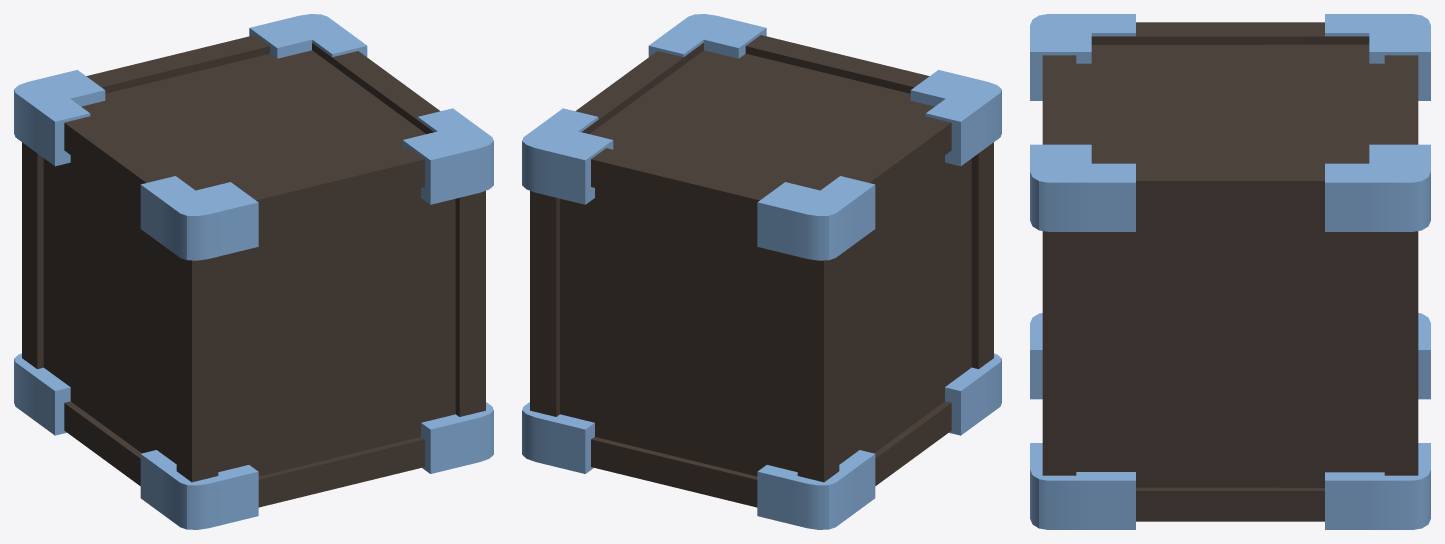
Rendered from woodenbox_broken.fbx.
3 renders of one model, left to right at view 1: azimuth 30°, elevation 25°; view 2: azimuth 150°, elevation 25°; view 3: azimuth 270°, elevation 25°, orthographic. The views are drawn at different scales.
Parts seen in each view (by area): view 1: BrokenBox.008, BrokenBox.004, BrokenBox.001, BrokenBox.009, BrokenBox.005, BrokenBox.017, BrokenBox.019, BrokenBox.002, BrokenBox.011, BrokenBox.010, BrokenBox.014, BrokenBox.007 (+4 smaller); view 2: BrokenBox.005, BrokenBox.001, BrokenBox.007, BrokenBox.008, BrokenBox.006, BrokenBox.019, BrokenBox.002, BrokenBox.015, BrokenBox.003, BrokenBox.011, BrokenBox, BrokenBox.004 (+1 smaller); view 3: BrokenBox.005, BrokenBox.013, BrokenBox.008, BrokenBox.003, BrokenBox.012, BrokenBox.016, BrokenBox.014, BrokenBox.015, BrokenBox.001, BrokenBox.004, BrokenBox.002, BrokenBox.006 (+2 smaller).
Part boxes in pixels (<box>): BrokenBox.008: <box>107,129,379,336</box>; BrokenBox.004: <box>315,108,493,336</box>; BrokenBox.001: <box>14,56,218,280</box>; BrokenBox.009: <box>140,346,278,529</box>; BrokenBox.005: <box>169,14,400,125</box>; BrokenBox.017: <box>335,365,485,487</box>; BrokenBox.019: <box>107,306,194,485</box>; BrokenBox.002: <box>64,100,253,305</box>; BrokenBox.011: <box>113,243,313,369</box>; BrokenBox.010: <box>265,331,338,505</box>; BrokenBox.014: <box>335,298,485,394</box>; BrokenBox.007: <box>14,246,78,435</box>; BrokenBox.005: <box>522,82,761,331</box>; BrokenBox.001: <box>677,151,875,369</box>; BrokenBox.007: <box>677,331,875,529</box>; BrokenBox.008: <box>738,46,1001,242</box>; BrokenBox.006: <box>522,365,680,487</box>; BrokenBox.019: <box>902,246,993,461</box>; BrokenBox.002: <box>727,125,908,331</box>; BrokenBox.015: <box>530,298,680,394</box>; BrokenBox.003: <box>615,51,798,129</box>; BrokenBox.011: <box>902,169,993,305</box>; BrokenBox: <box>867,306,908,485</box>; BrokenBox.004: <box>648,14,804,70</box>; BrokenBox.005: <box>1230,101,1430,351</box>; BrokenBox.013: <box>1030,417,1230,529</box>; BrokenBox.008: <box>1030,14,1230,150</box>; BrokenBox.003: <box>1118,101,1230,346</box>; BrokenBox.012: <box>1042,230,1229,351</box>; BrokenBox.016: <box>1230,417,1418,521</box>; BrokenBox.014: <box>1042,347,1230,436</box>; BrokenBox.015: <box>1230,347,1418,436</box>; BrokenBox.001: <box>1307,14,1430,109</box>; BrokenBox.004: <box>1030,124,1135,256</box>; BrokenBox.002: <box>1230,22,1323,109</box>; BrokenBox.006: <box>1325,436,1430,529</box>.
Bounding box in the file's own units: 1 × 0.9623 × 1.01.
